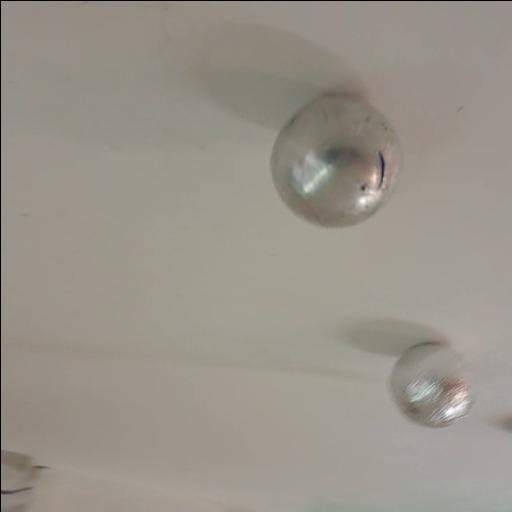alive: (262, 92, 404, 234), (387, 341, 477, 428)
